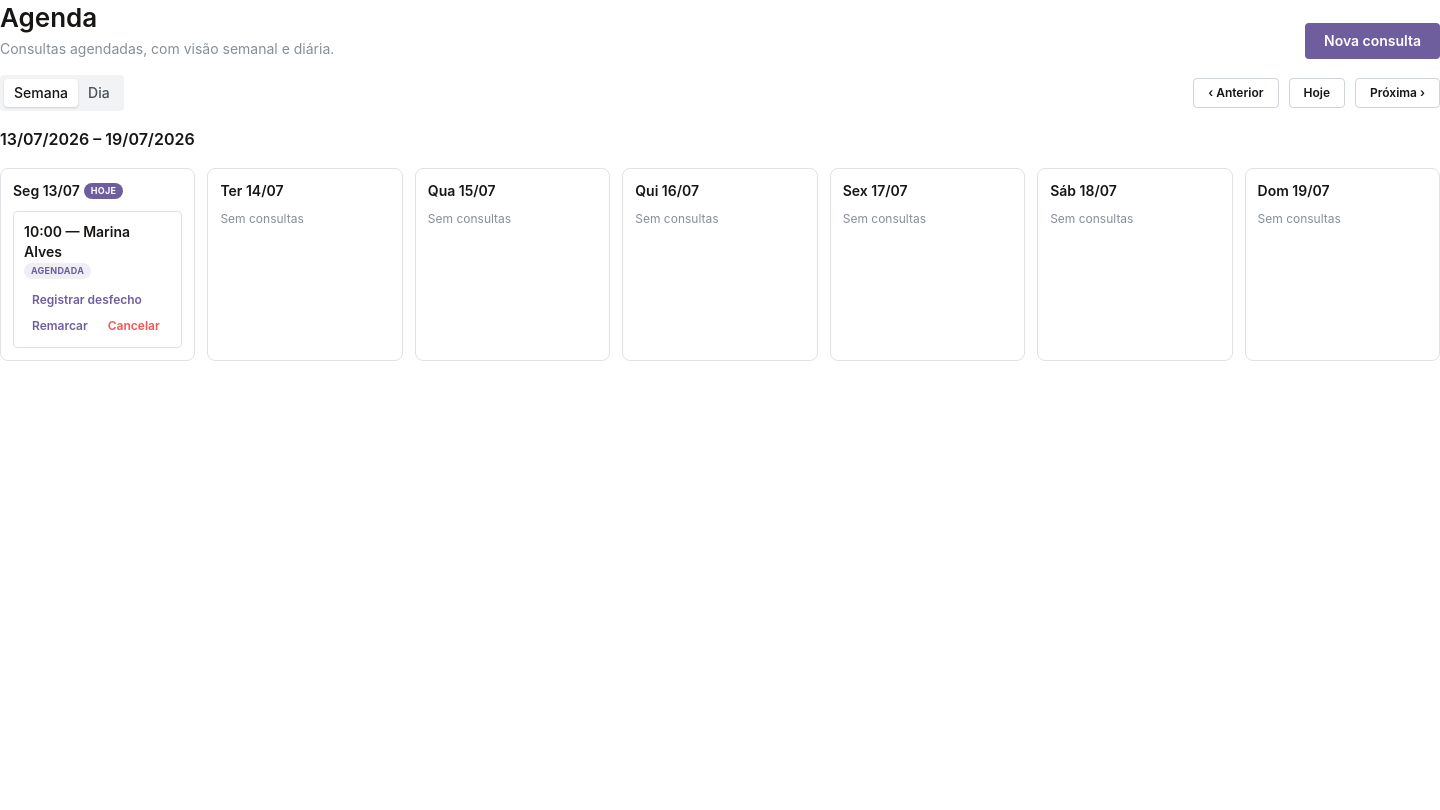
Test: AgendaPage — cancelar consulta › confirmar cancela a consulta e ela deixa de ter ações (permanece no histórico)
The image size is (1440, 810).
Expected: the element with test id "agenda-week-view" is shown, [0,168,1439,361]
Click the button "Cancelar" at (134, 326), box [100,315,168,337]
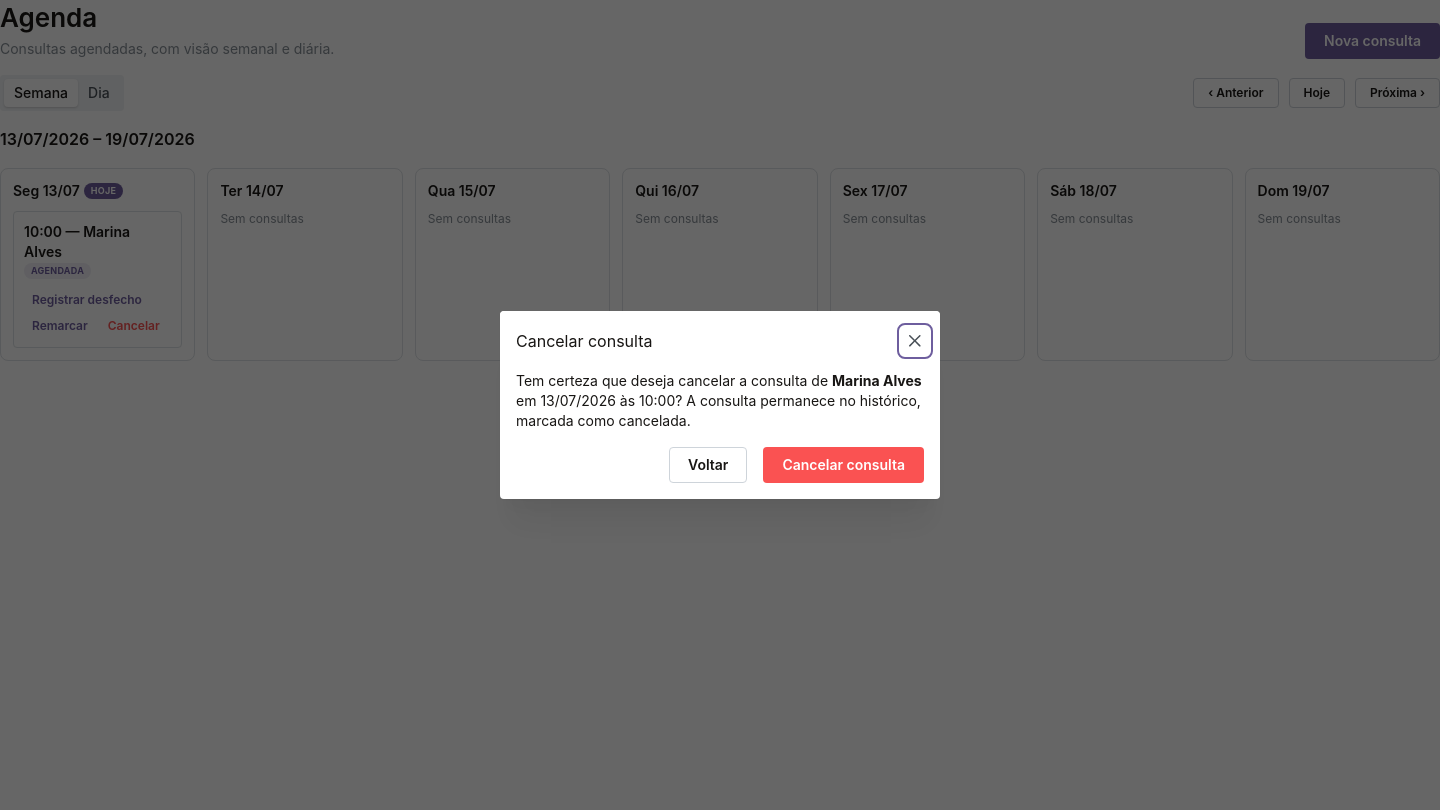
Click the button with test id "confirm-cancel-appointment" at (844, 465), box [763,447,924,483]
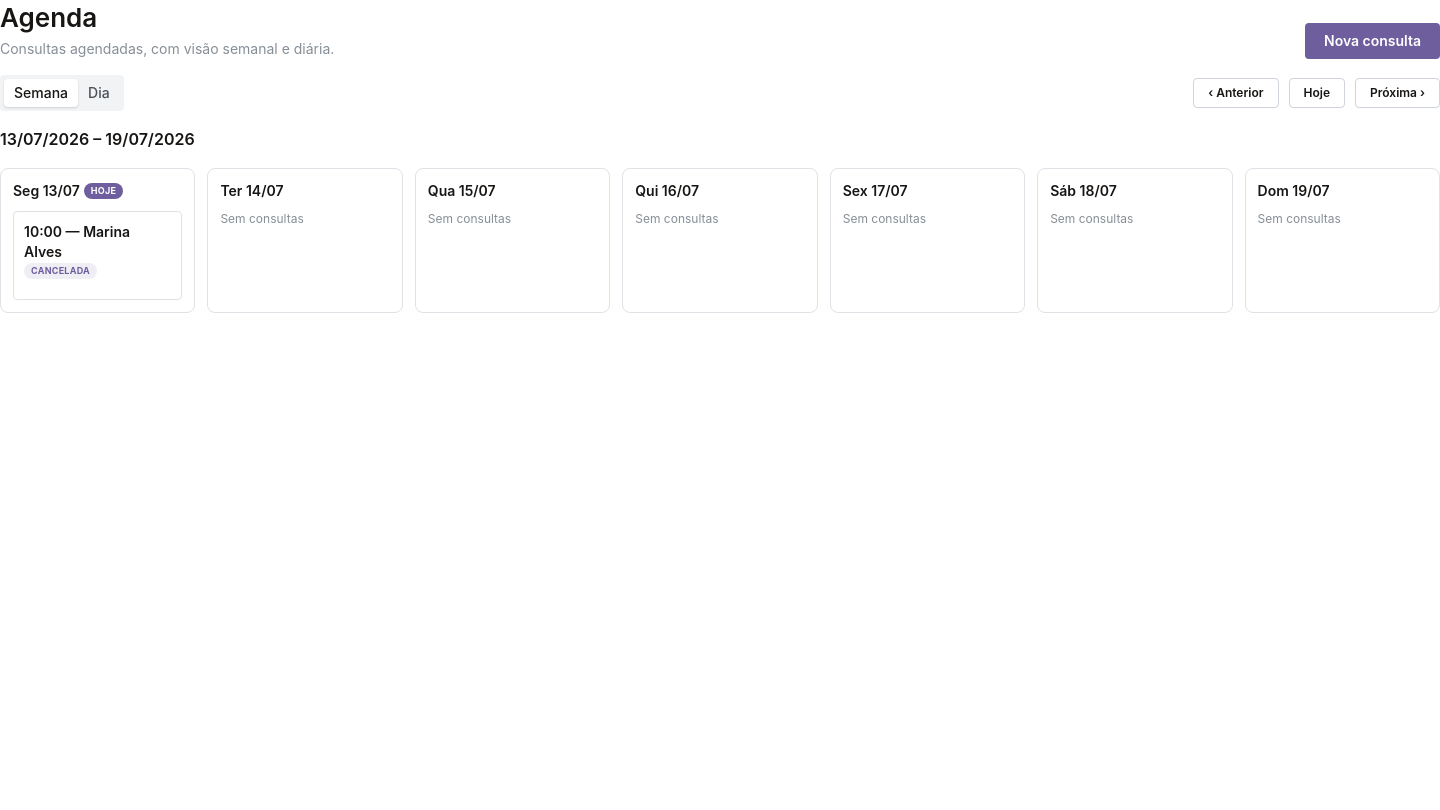
Now the button with test id "confirm-cancel-appointment" is gone
Now the button "Remarcar" is gone
Now the button "Cancelar" is gone
